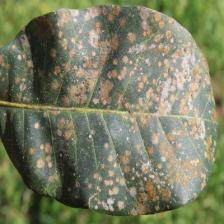red rust: (0, 4, 218, 216)
